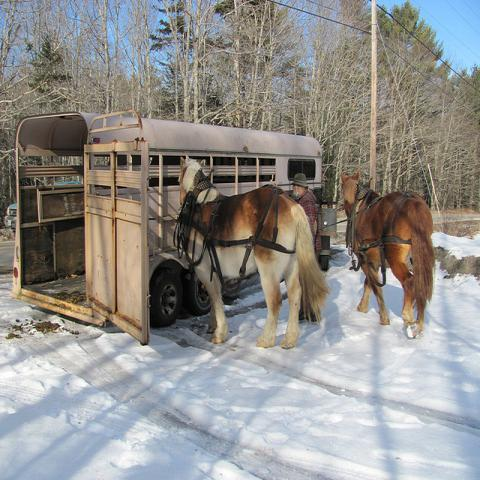car: (5, 204, 16, 228)
truck: (10, 109, 341, 345)
